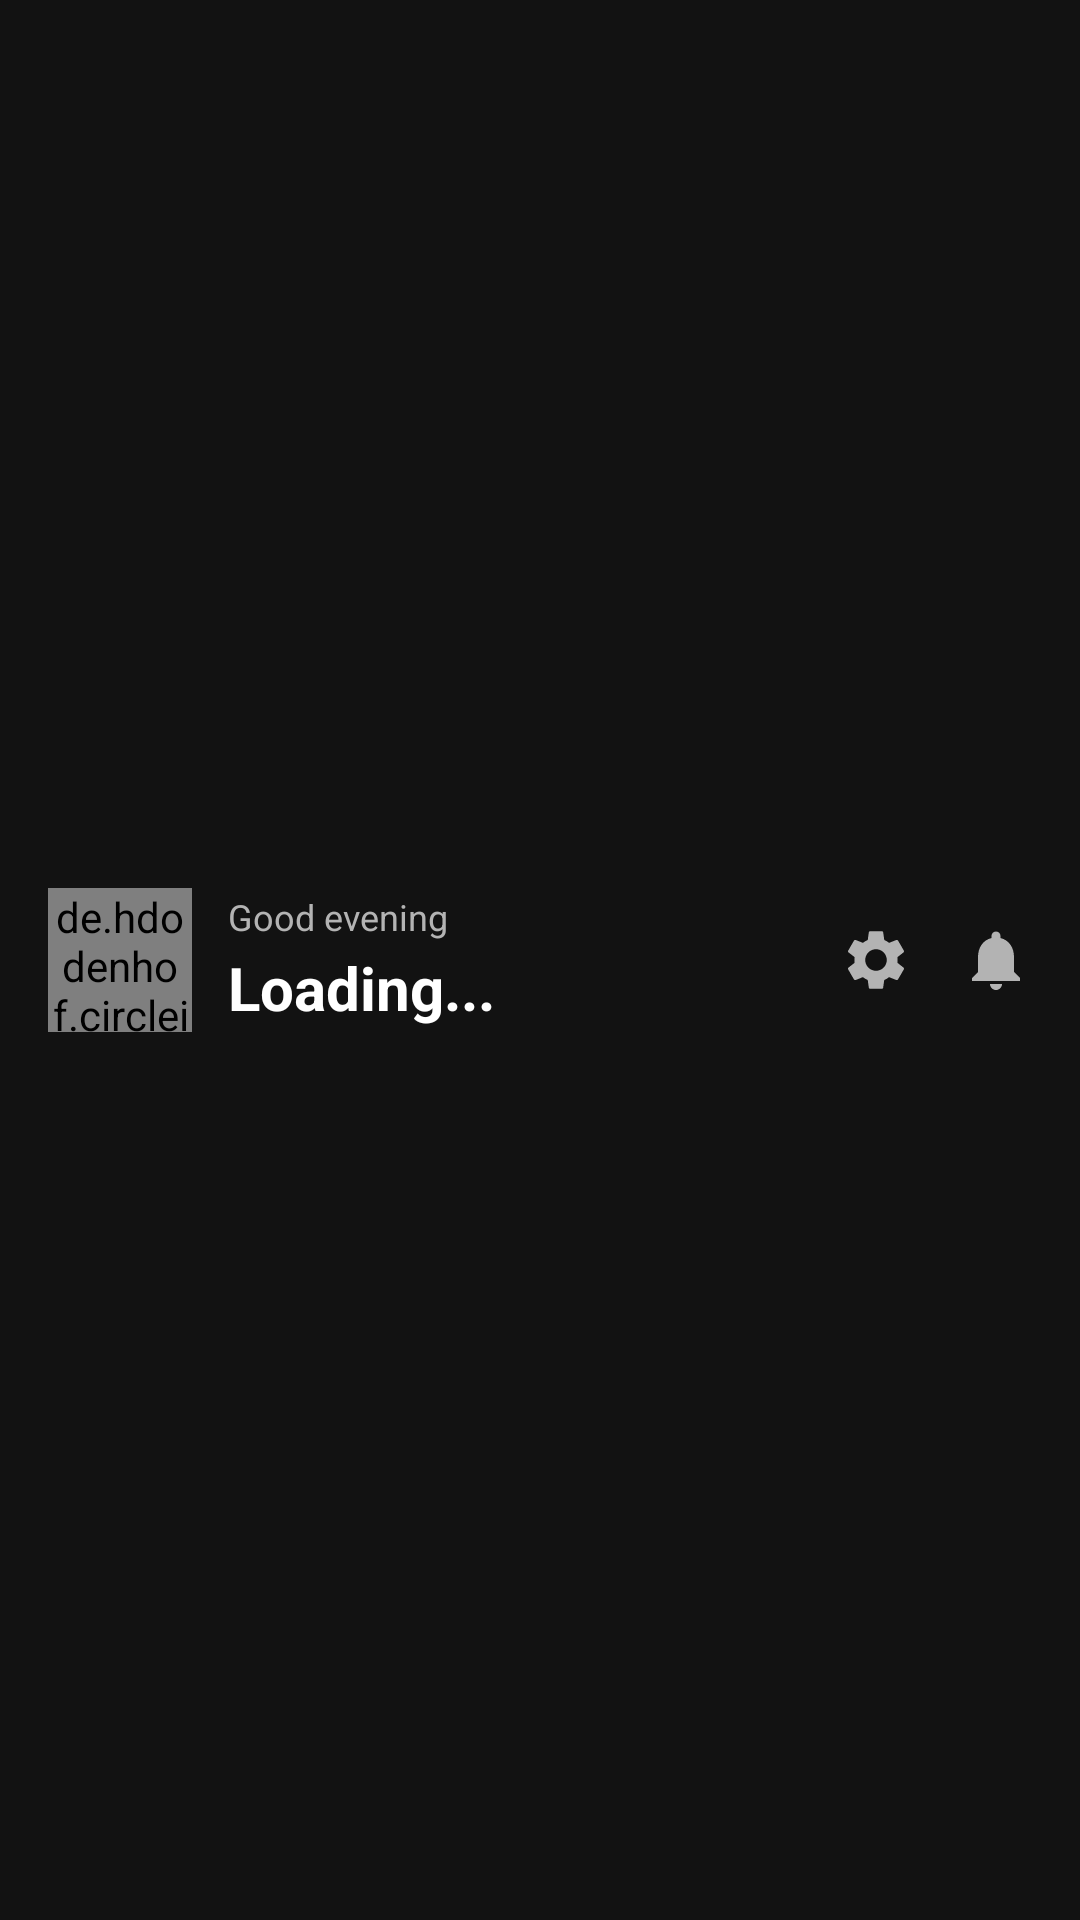

Named icons in this screenshot (1080px×1920px) and their centers, [x,y]:
notifications: [996,960]
settings: [876,960]
